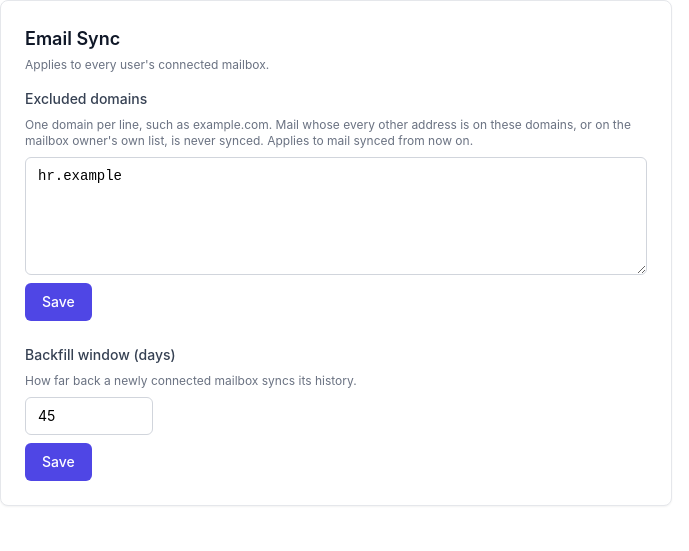
Test: EmailSyncSettings › saves the window
expect the text box with test id "email-sync-excluded-domains-input" is shown: met, box [25, 157, 647, 275]
Replace the text in the number field with test id "email-sync-backfill-days-input" with "14" at (89, 416), box [25, 397, 153, 435]
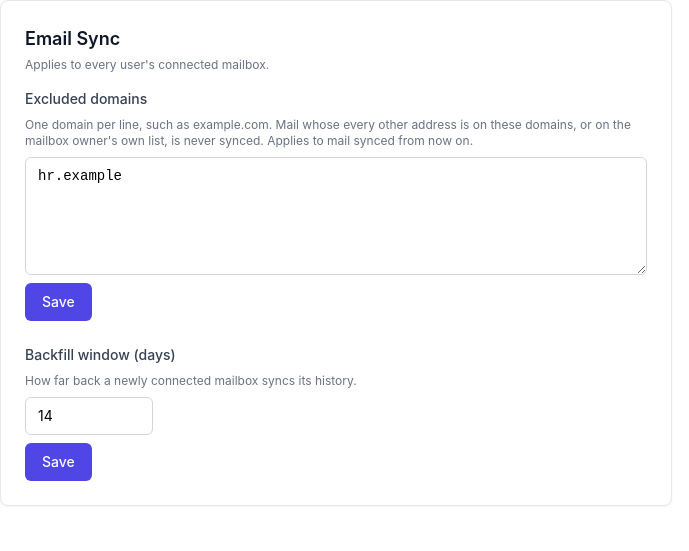
Click the button with test id "email-sync-days-save" at (58, 462), box [25, 443, 92, 481]
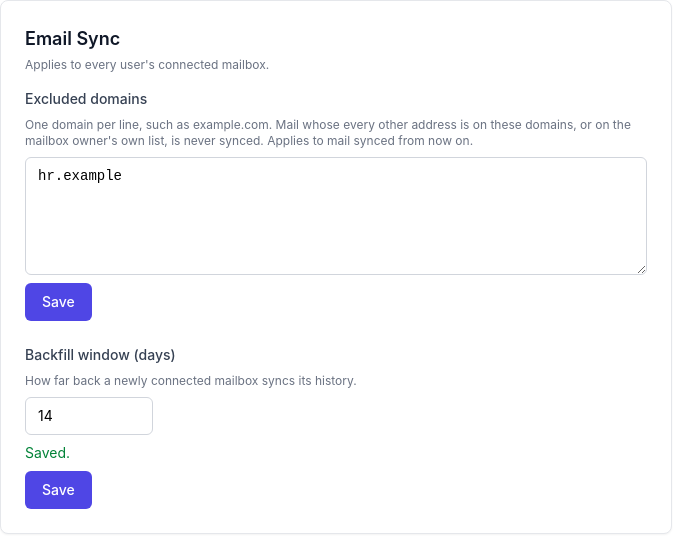
expect the message "Saved." is shown: met, box [25, 444, 70, 461]
